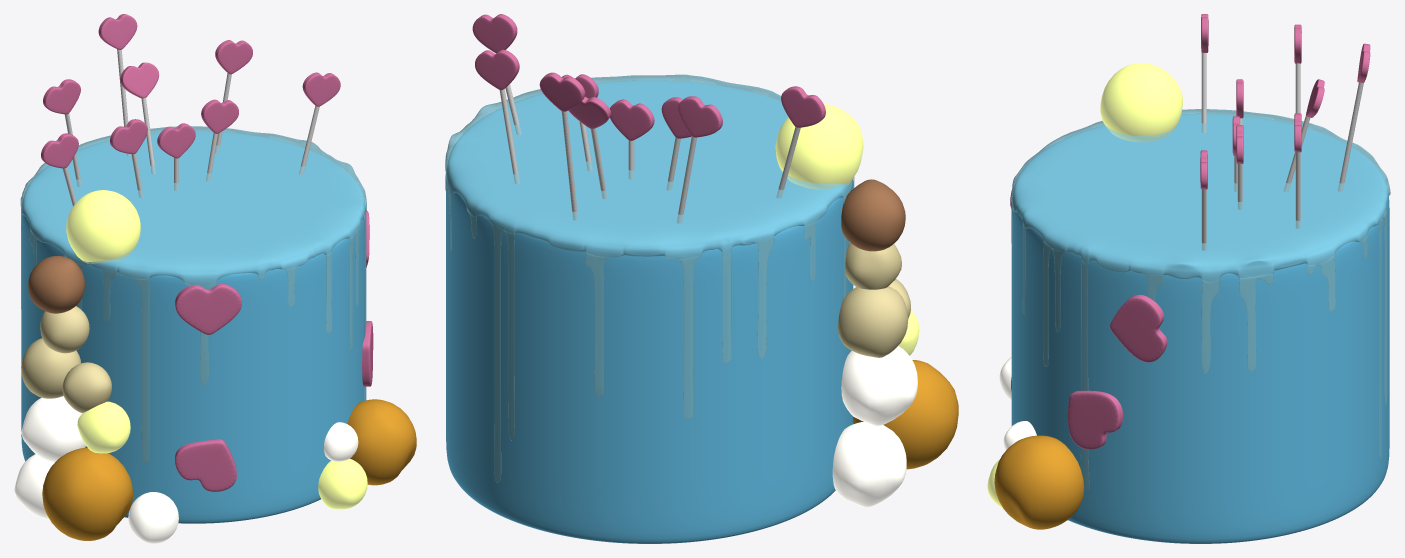
File: Cake_Layer_1_LightBlue_Topper1_Hearts_BlueDrip.glb
3 views of the same model, side by side, from view 1: azimuth 30°, elevation 25°; view 2: azimuth 150°, elevation 25°; view 3: azimuth 270°, elevation 25° (orthographic). The views are drawn at different scales.
Parts seen in each view (by area): view 1: Circle, Circle.001, Sphere, Sphere.015, Sphere.026, Sphere.002, Sphere.006, Star.003, Star.002, Sphere.005, Sphere.003, Sphere.001 (+15 smaller); view 2: Circle, Circle.001, Sphere.015, Sphere.013, Sphere.002, Sphere, Sphere.005, Sphere.006, Sphere.010, Star.006, Star.005, Star.009 (+6 smaller); view 3: Circle, Circle.001, Sphere.026, Sphere.015, Star.001, Star.004, Cylinder.049, Sphere.027.
Boxes of the visible parts, bbox=[...] form: Circle: bbox=[21, 131, 366, 523]; Circle.001: bbox=[20, 126, 366, 463]; Sphere: bbox=[42, 448, 132, 540]; Sphere.015: bbox=[66, 190, 140, 263]; Sphere.026: bbox=[347, 399, 416, 485]; Sphere.002: bbox=[21, 396, 85, 462]; Sphere.006: bbox=[28, 256, 84, 313]; Star.003: bbox=[175, 284, 241, 334]; Star.002: bbox=[175, 439, 236, 491]; Sphere.005: bbox=[21, 338, 80, 398]; Sphere.003: bbox=[77, 401, 130, 453]; Sphere.001: bbox=[128, 492, 178, 543]; Circle: bbox=[446, 80, 853, 543]; Circle.001: bbox=[445, 74, 854, 483]; Sphere.015: bbox=[775, 104, 863, 189]; Sphere.013: bbox=[832, 421, 906, 507]; Sphere.002: bbox=[841, 346, 917, 426]; Sphere: bbox=[853, 360, 958, 469]; Sphere.005: bbox=[838, 286, 908, 357]; Sphere.006: bbox=[841, 179, 905, 251]; Sphere.010: bbox=[845, 242, 901, 289]; Star.006: bbox=[678, 96, 722, 137]; Star.005: bbox=[781, 86, 825, 127]; Star.009: bbox=[475, 49, 519, 90]; Circle: bbox=[1011, 114, 1389, 543]; Circle.001: bbox=[1010, 109, 1390, 490]; Sphere.026: bbox=[994, 435, 1083, 529]; Sphere.015: bbox=[1100, 63, 1182, 141]; Star.001: bbox=[1110, 295, 1167, 362]; Star.004: bbox=[1068, 390, 1123, 449]; Cylinder.049: bbox=[1338, 82, 1363, 191]; Sphere.027: bbox=[1003, 421, 1036, 450].
Bounding box in the file's own units: 0.1763 × 0.1867 × 0.159.
